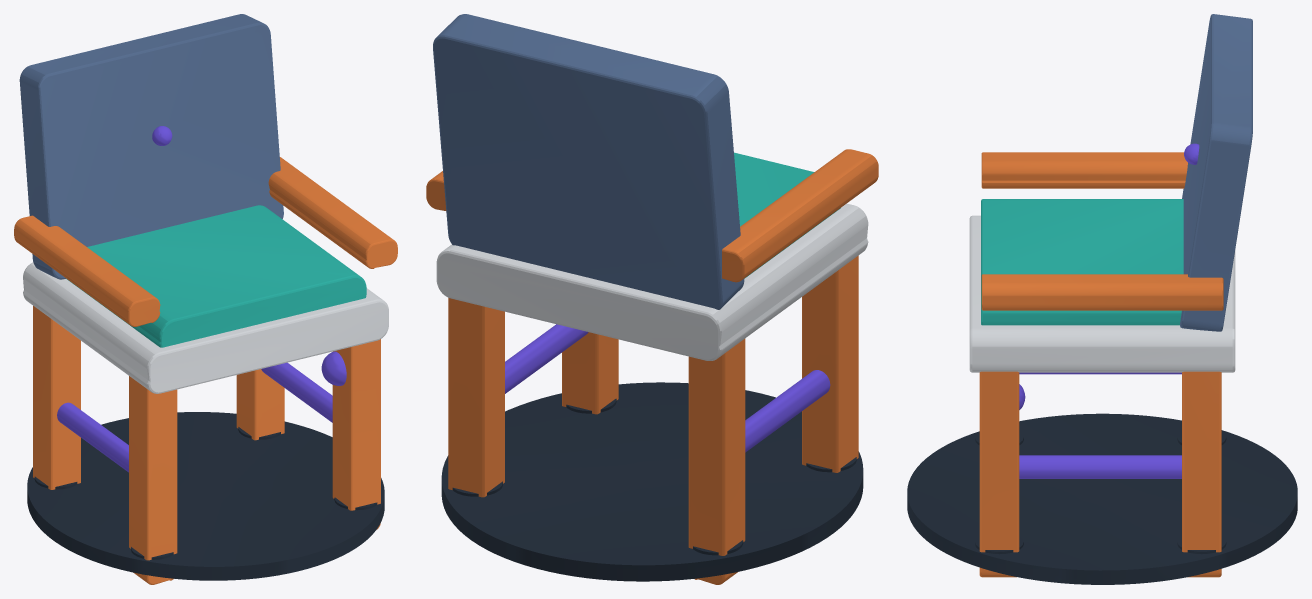
File: 1353_城市运转图鉴_物流中心.glb
3 views of the same model, side by side, from view 1: azimuth 30°, elevation 25°; view 2: azimuth 150°, elevation 25°; view 3: azimuth 270°, elevation 25° (orthographic). The views are drawn at different scales.
Parts seen in each view (by area): view 1: card_1353; view 2: card_1353; view 3: card_1353.
Part boxes in pixels (box(x1,y1,x2,y2)): card_1353: box(14, 14, 397, 584); card_1353: box(426, 14, 878, 584); card_1353: box(907, 14, 1297, 584).
Bounding box in the file's own units: 0.7448 × 1 × 0.7844.
